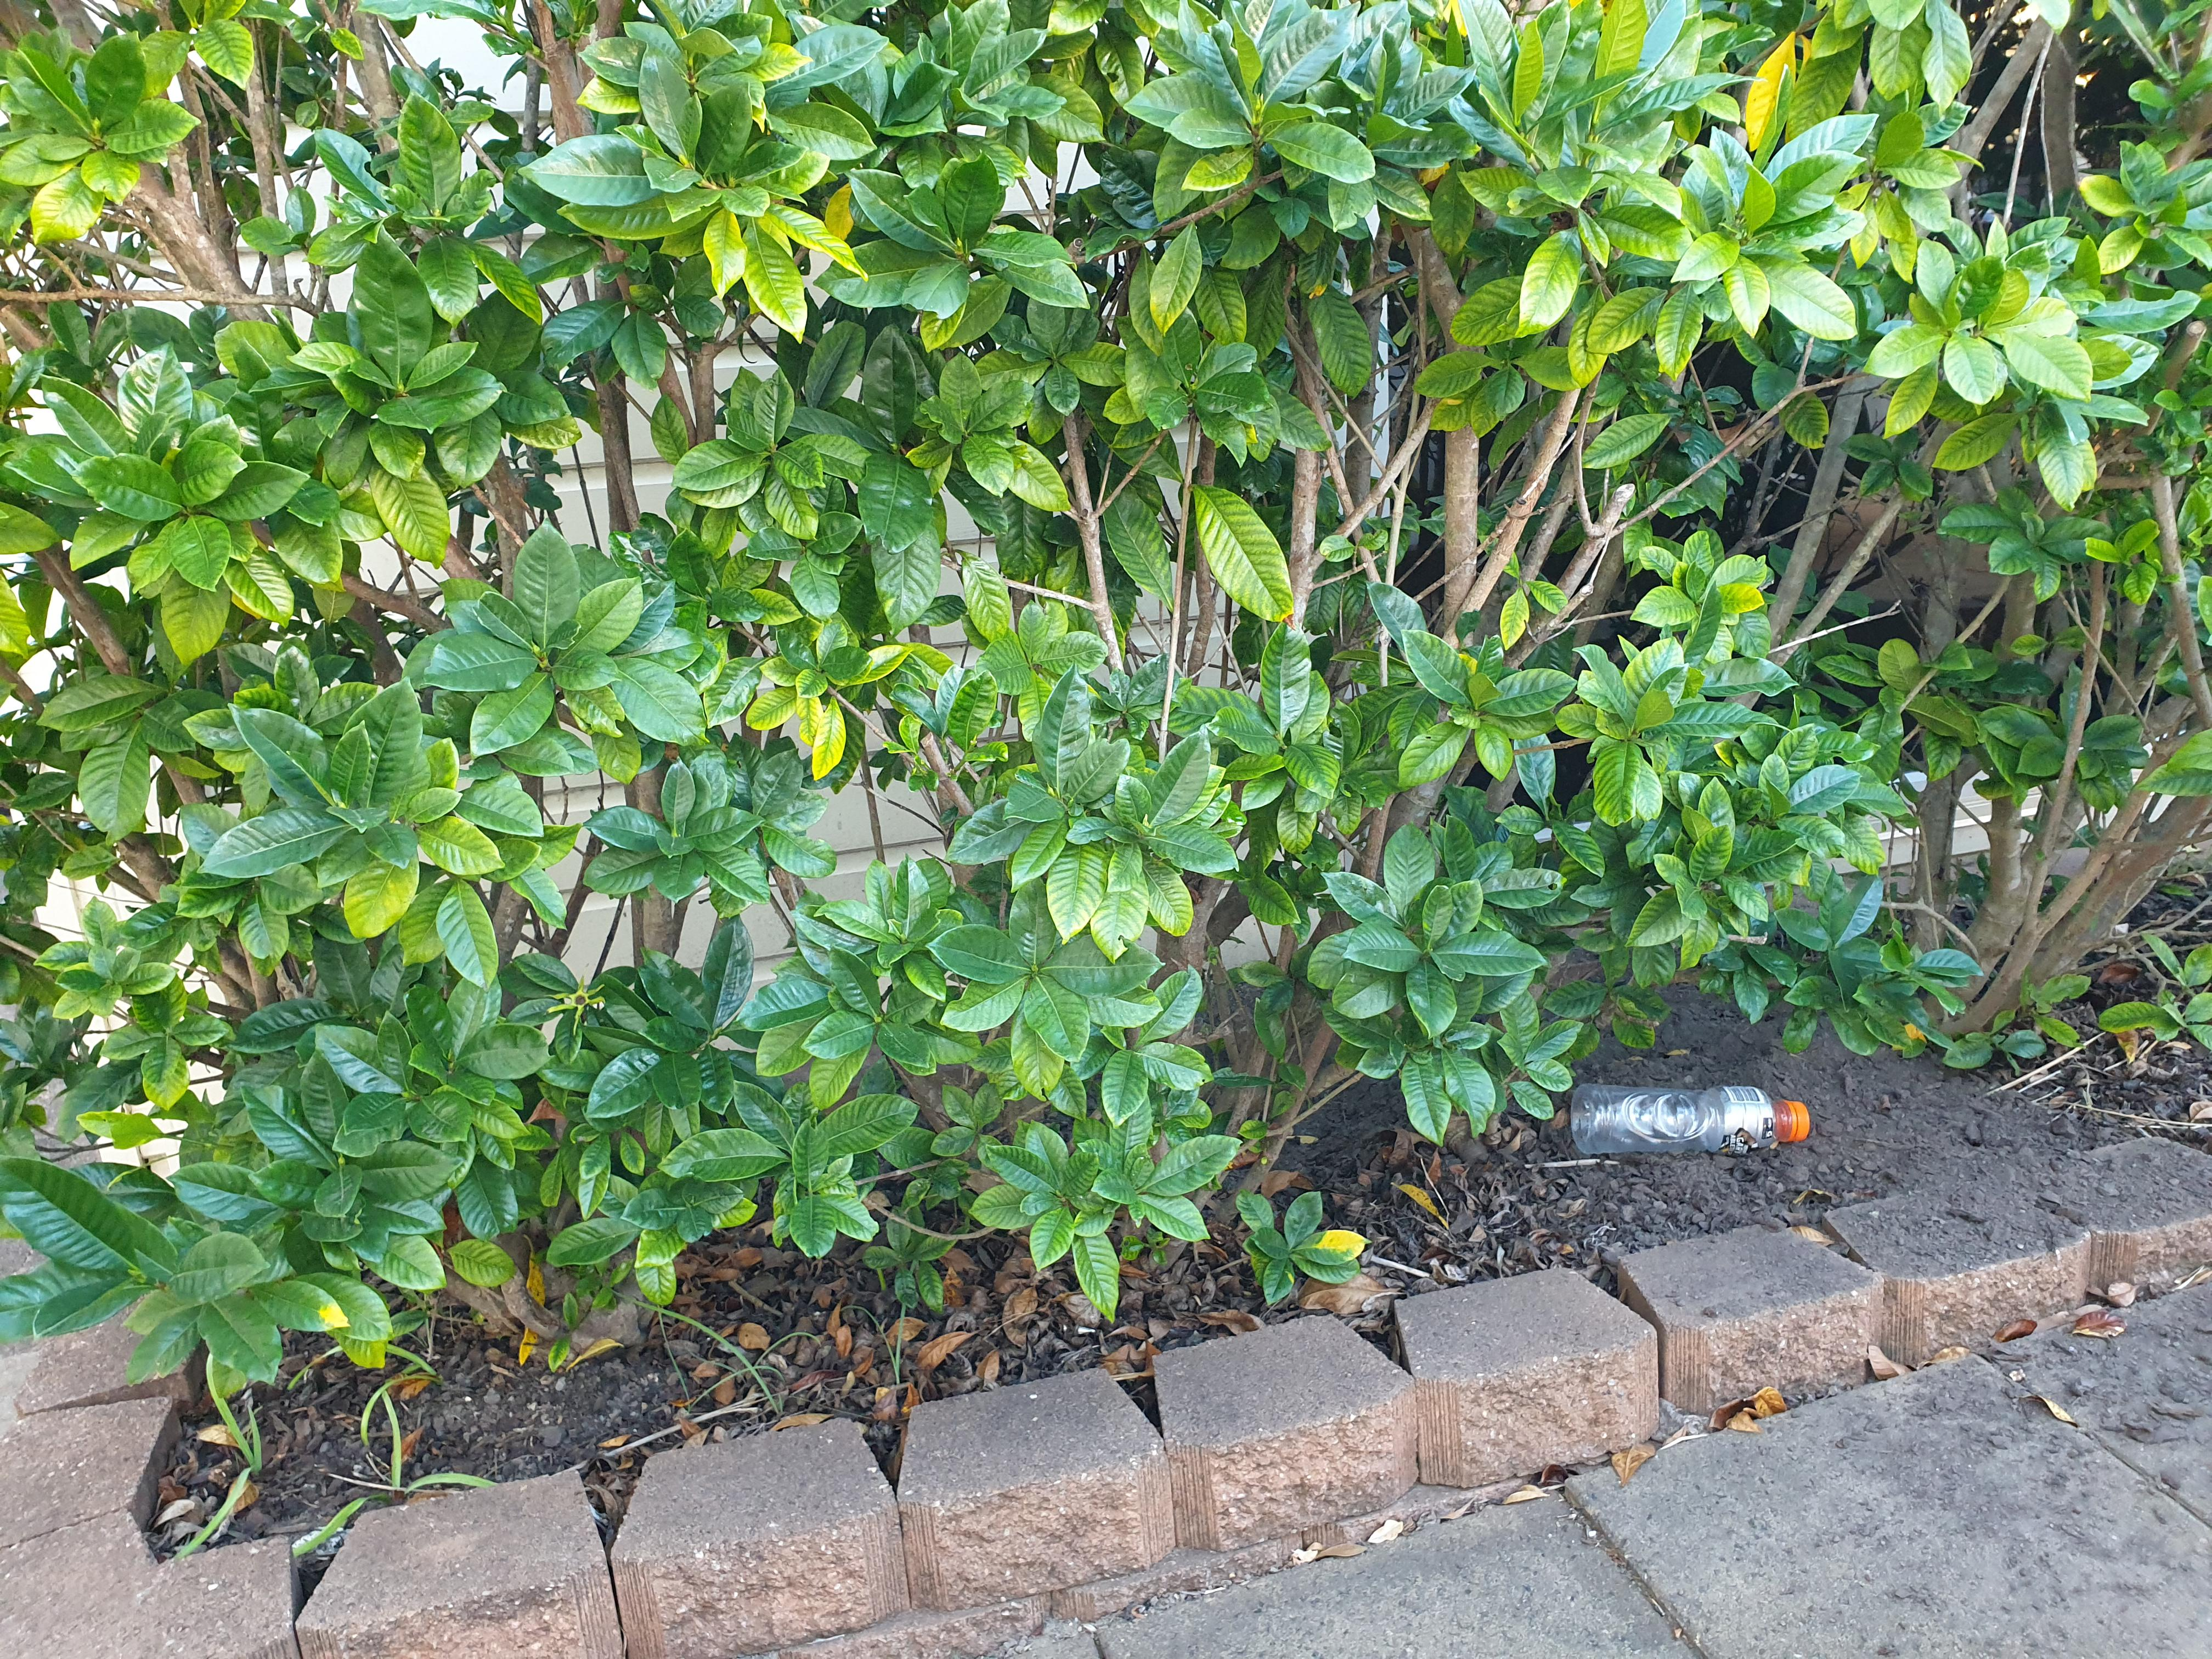Plastic Bottle: (1571, 1082, 1810, 1155)
